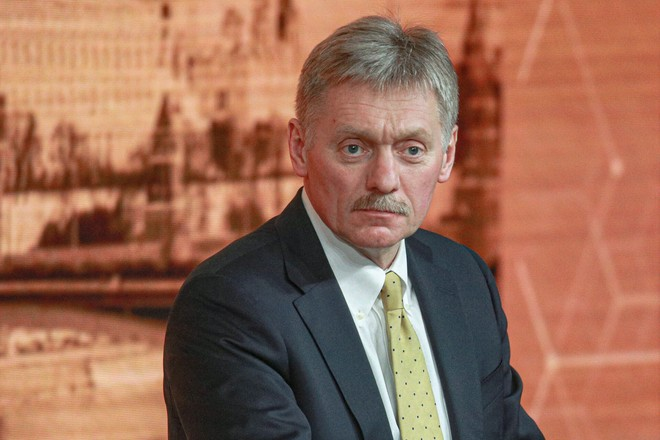tie: (369, 270, 453, 435)
